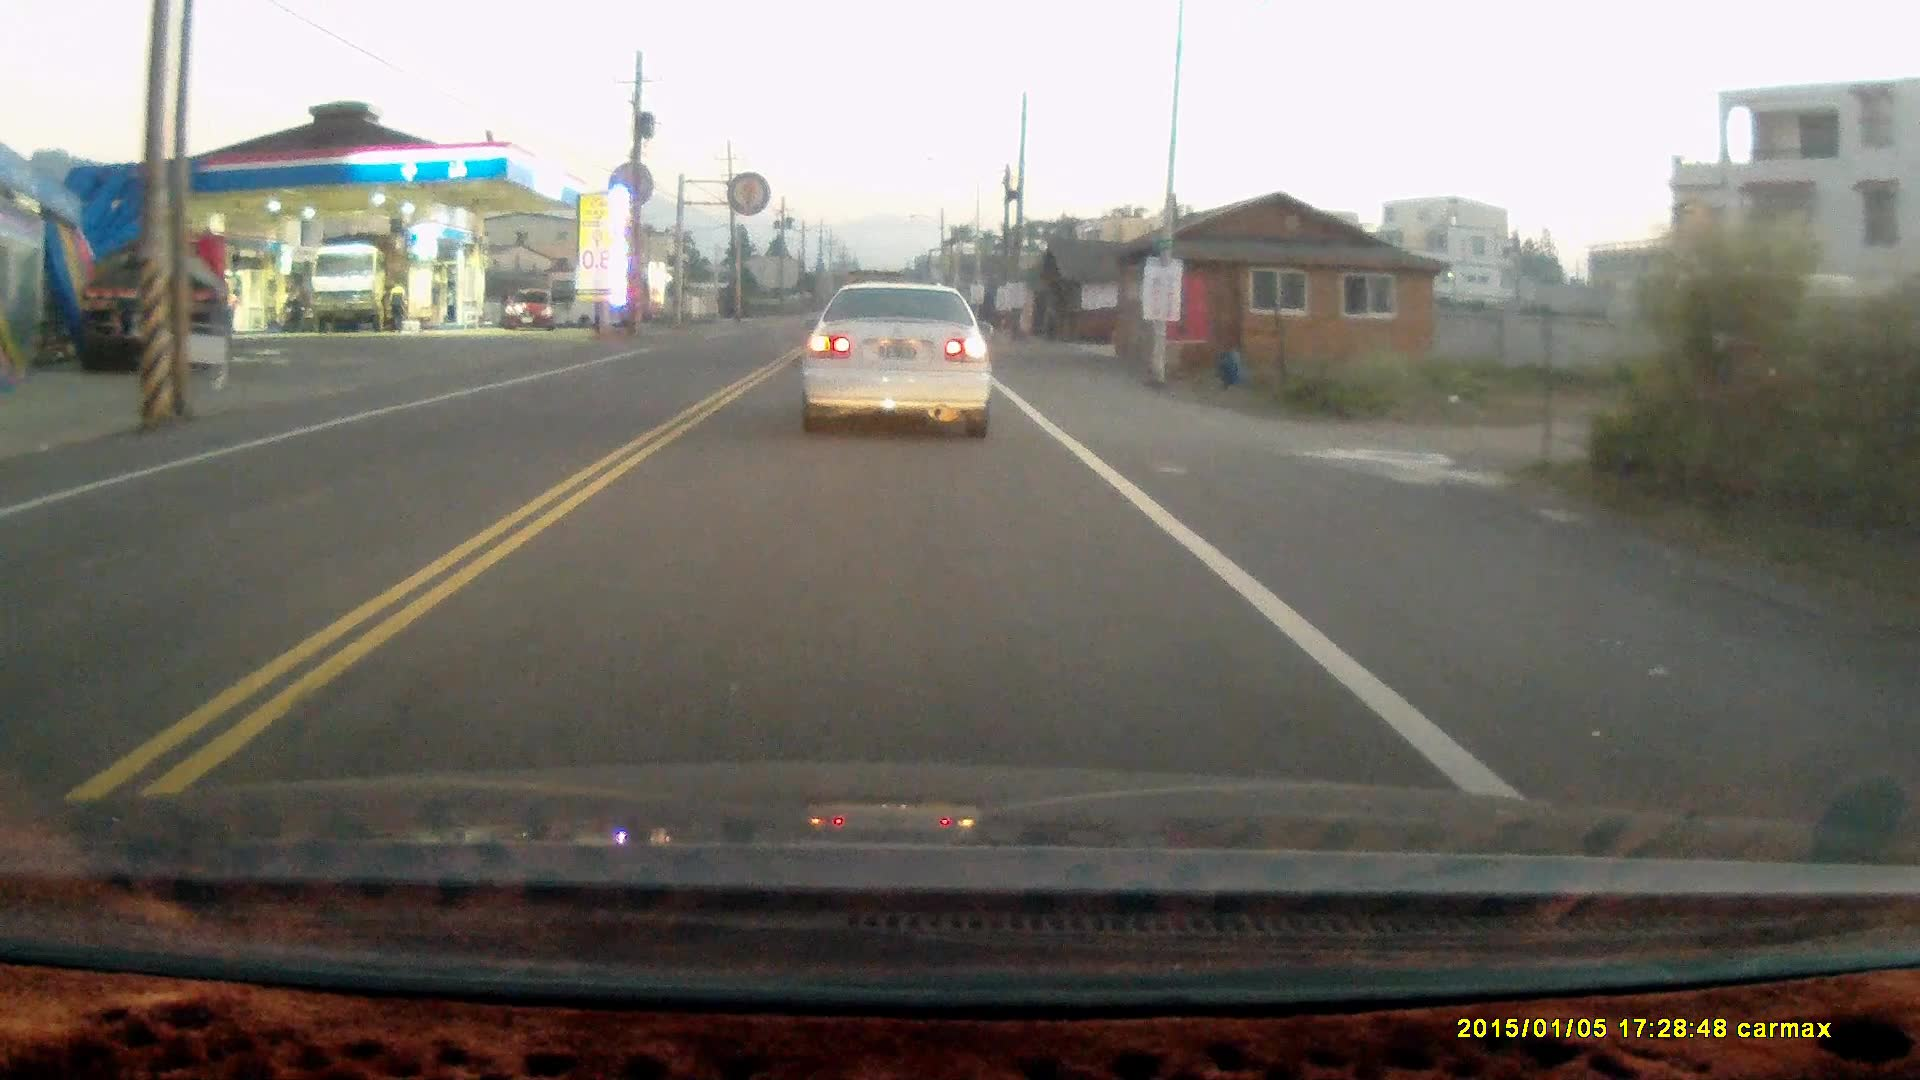pedestrian: (386, 276, 408, 327)
vehicle: (798, 281, 1001, 442), (84, 232, 239, 375), (312, 243, 407, 336), (508, 290, 555, 331)
